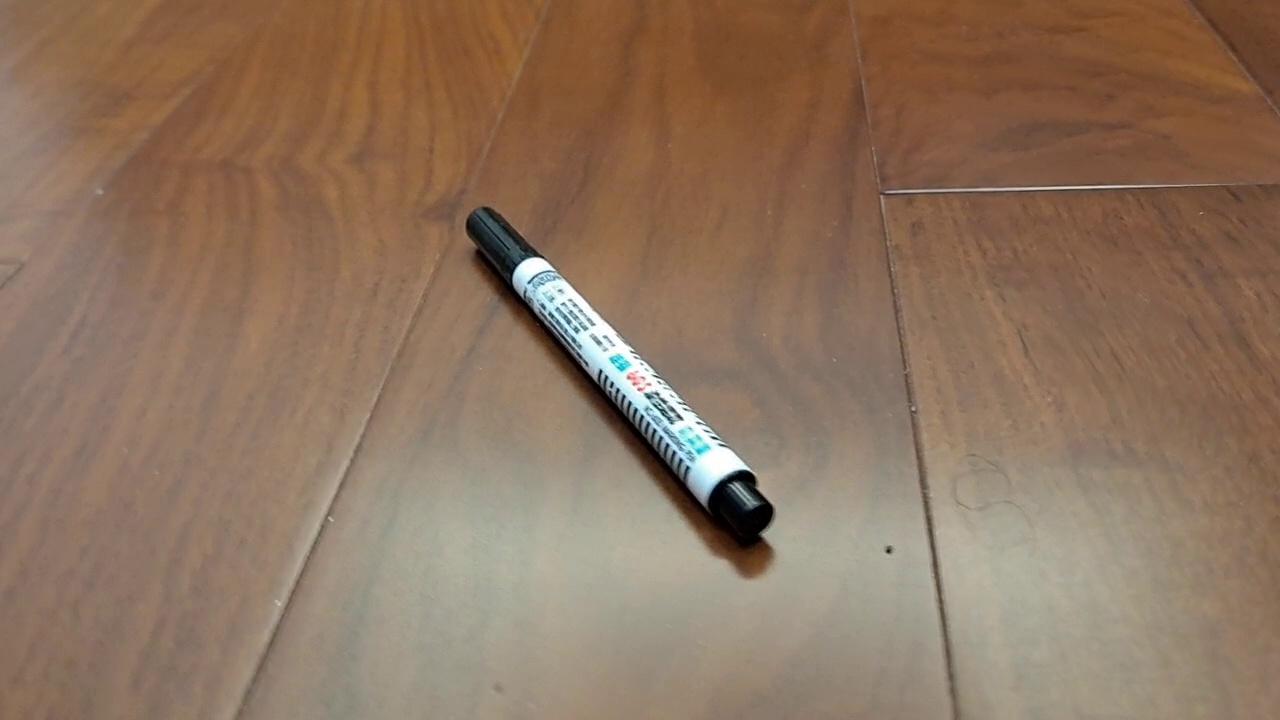pen: (465, 206, 774, 542)
